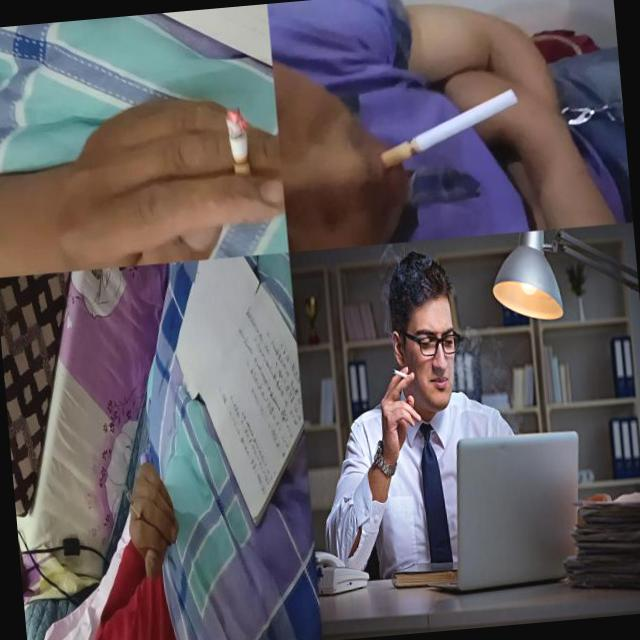smoke: (372, 86, 523, 170), (224, 106, 252, 187), (123, 482, 148, 531), (391, 366, 411, 380)
